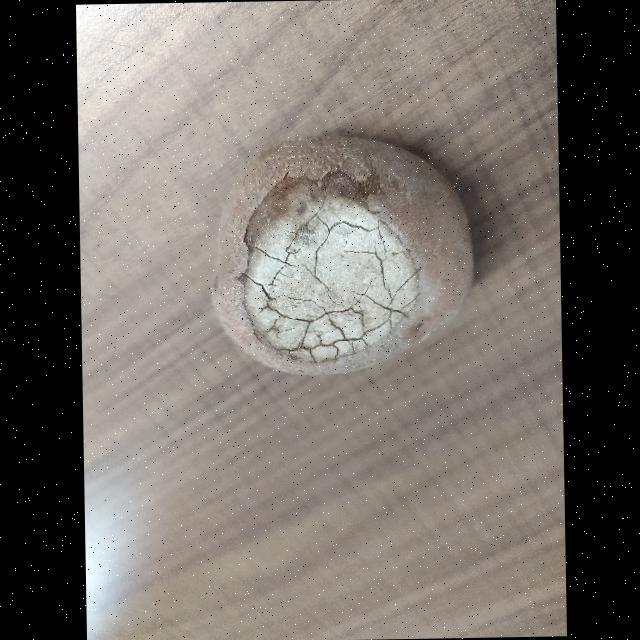Damaged potato: (340, 272, 604, 558)
